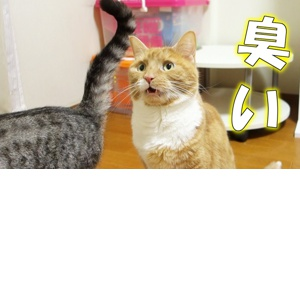cat: (119, 23, 221, 152)
